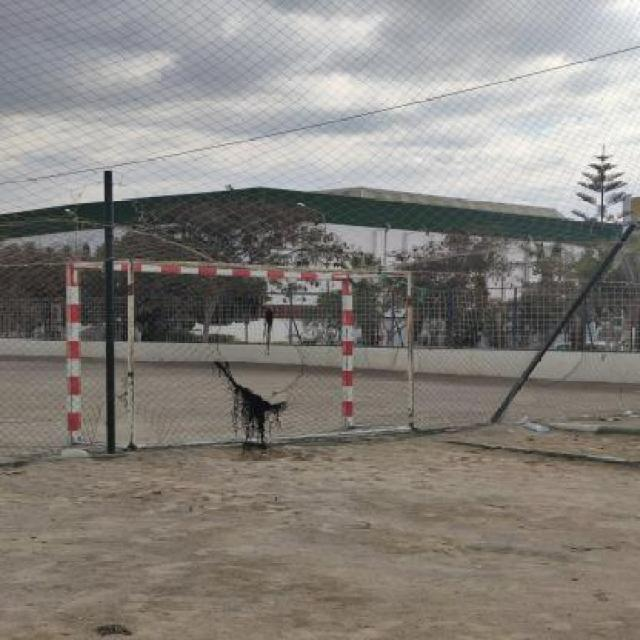fence line: (206, 288, 315, 417)
